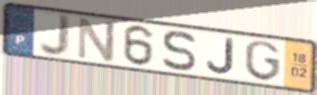6: (121, 24, 156, 68)
G: (243, 39, 282, 83)
J: (38, 13, 73, 59), (205, 36, 236, 76)
N: (75, 15, 118, 64)
S: (160, 30, 199, 73)
